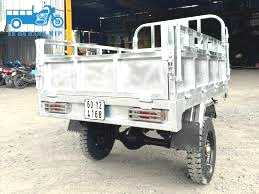Bien-so: (84, 96, 105, 118)
